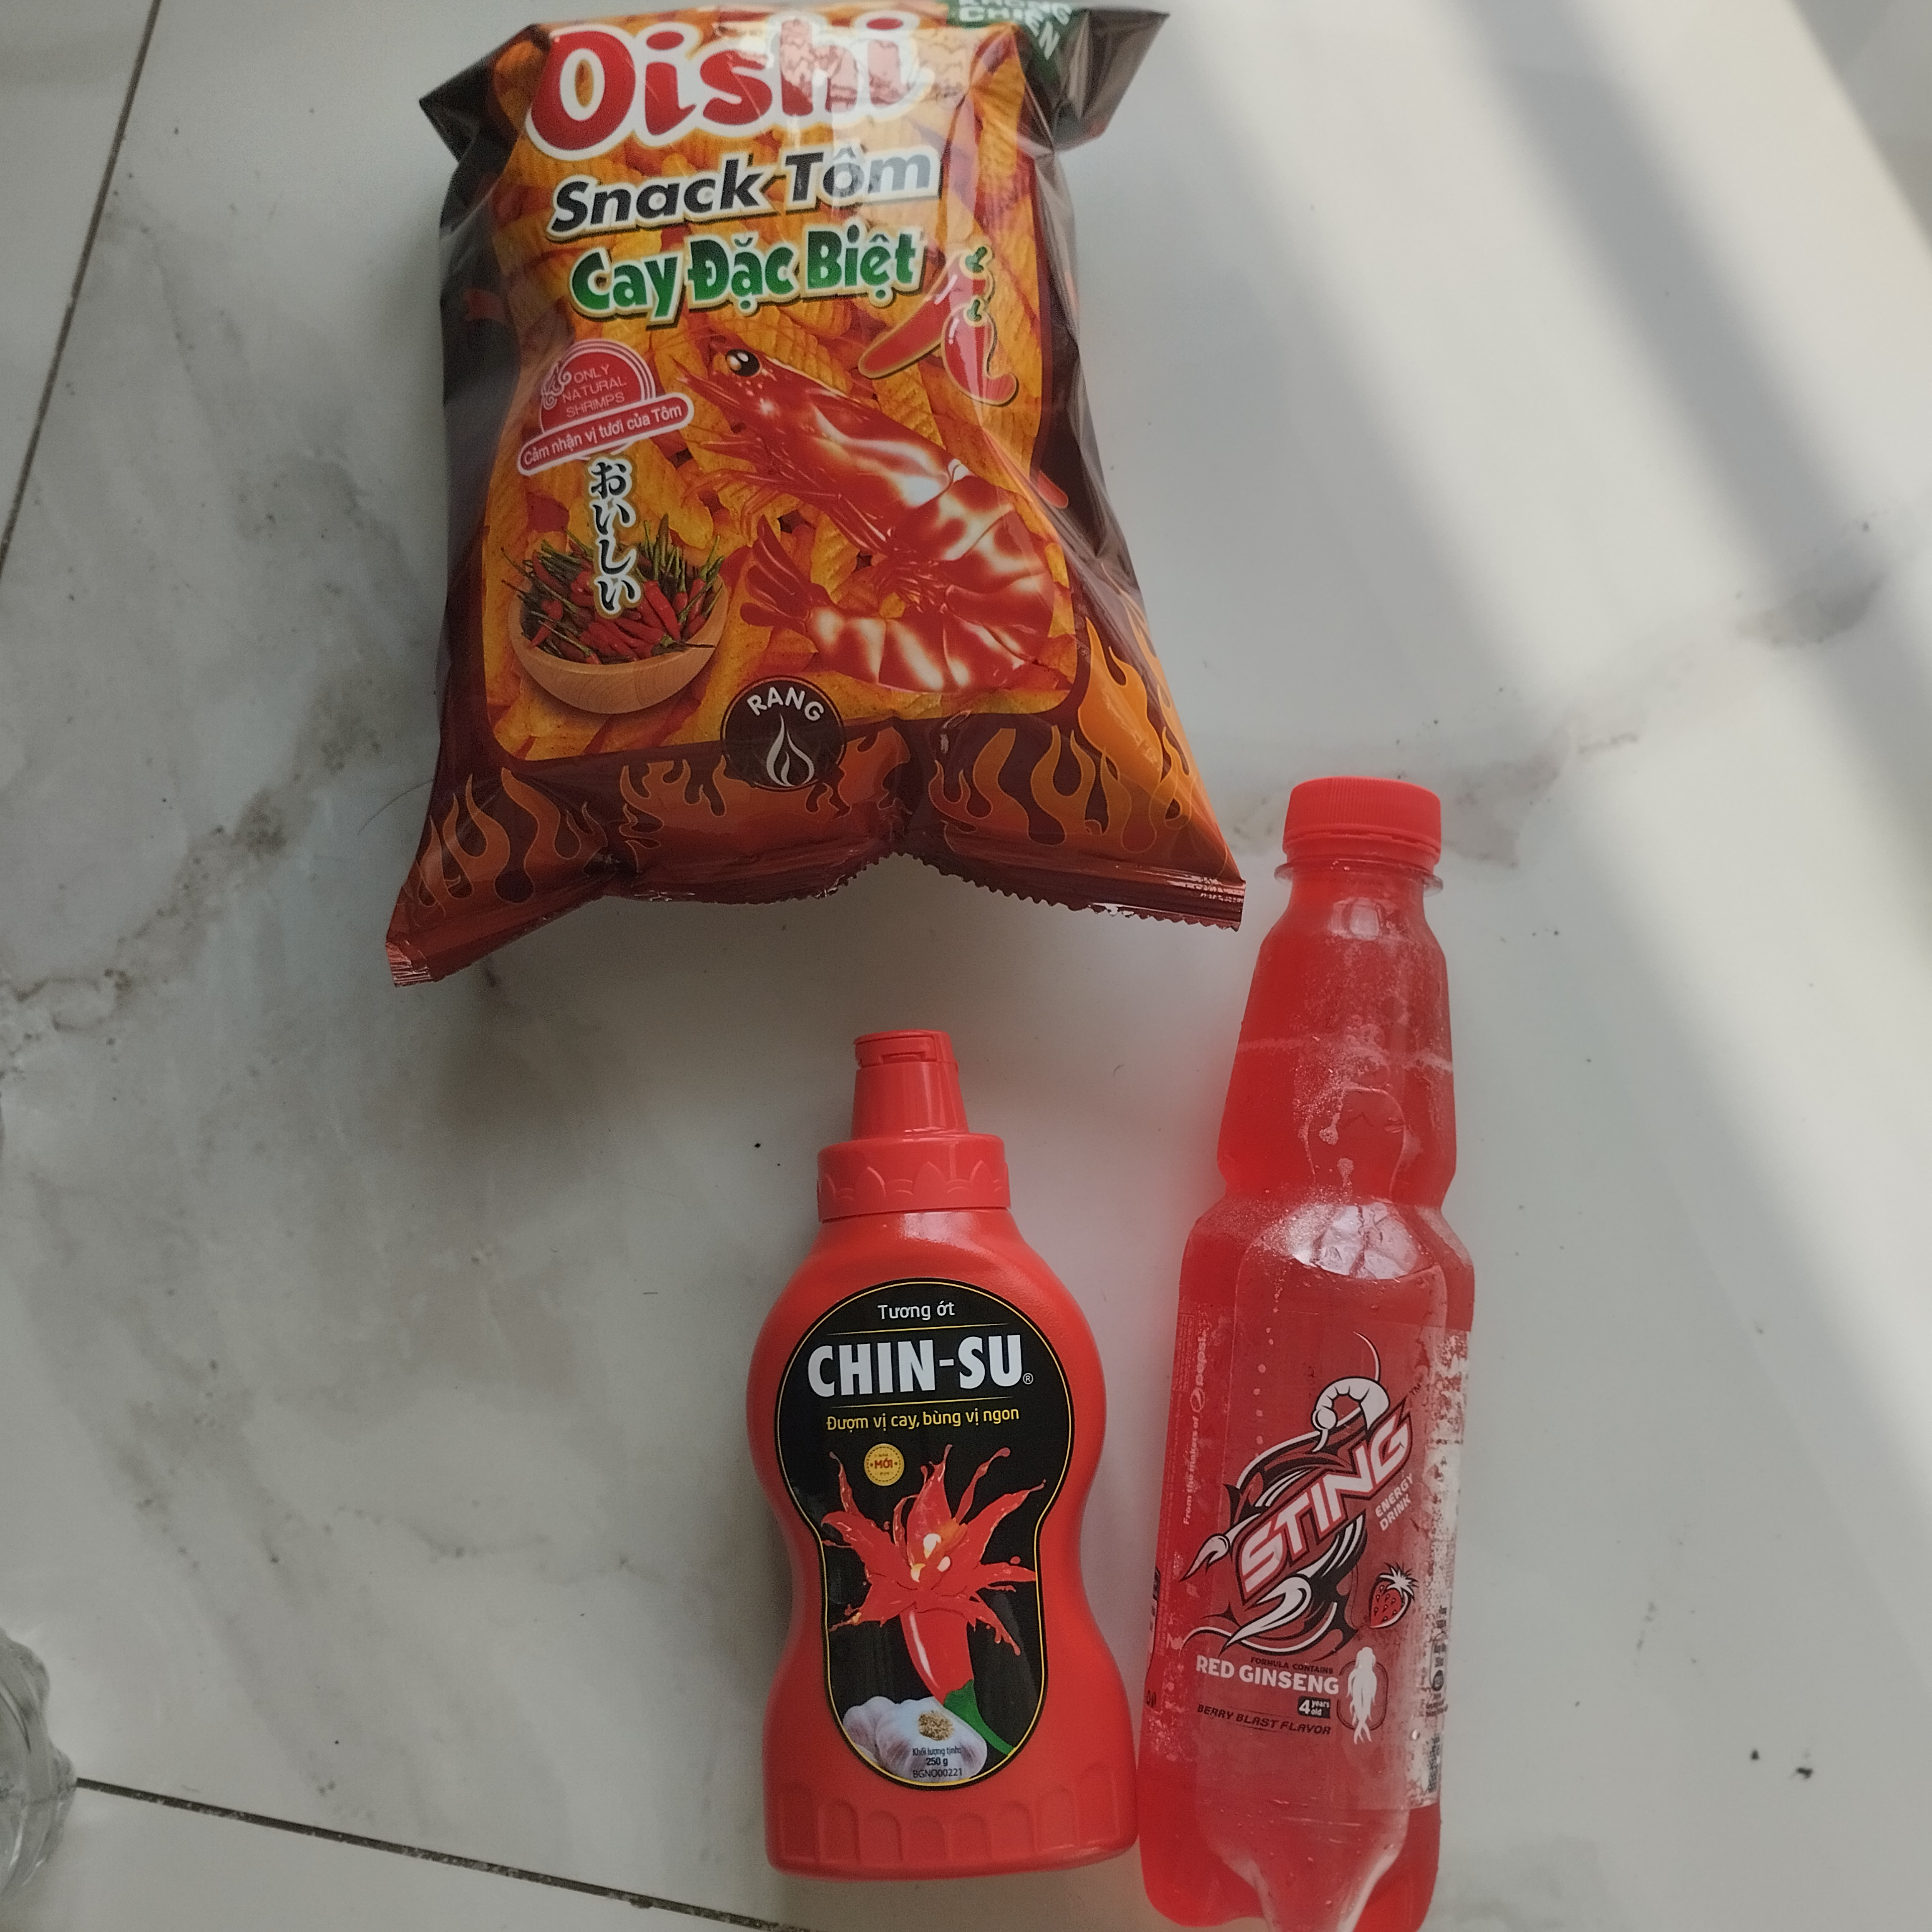Chinsu: (727, 1007, 1148, 1882)
Oishi_Cay: (395, 2, 1251, 996)
Sting: (1157, 754, 1476, 1930)
